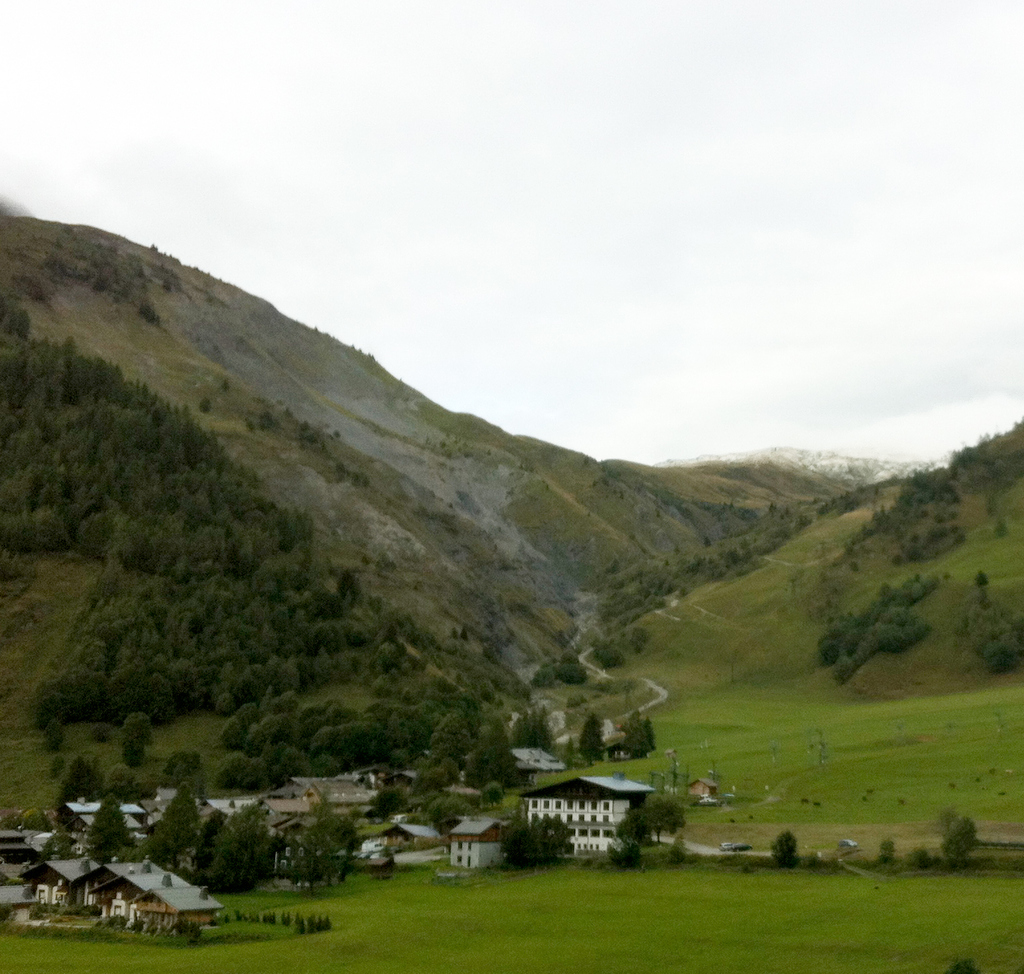Tree: (0, 226, 1024, 973)
